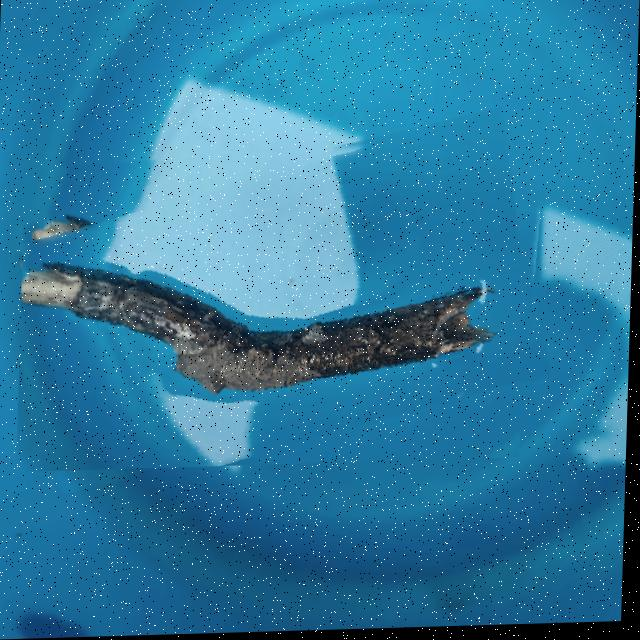litter: (18, 134, 548, 472)
